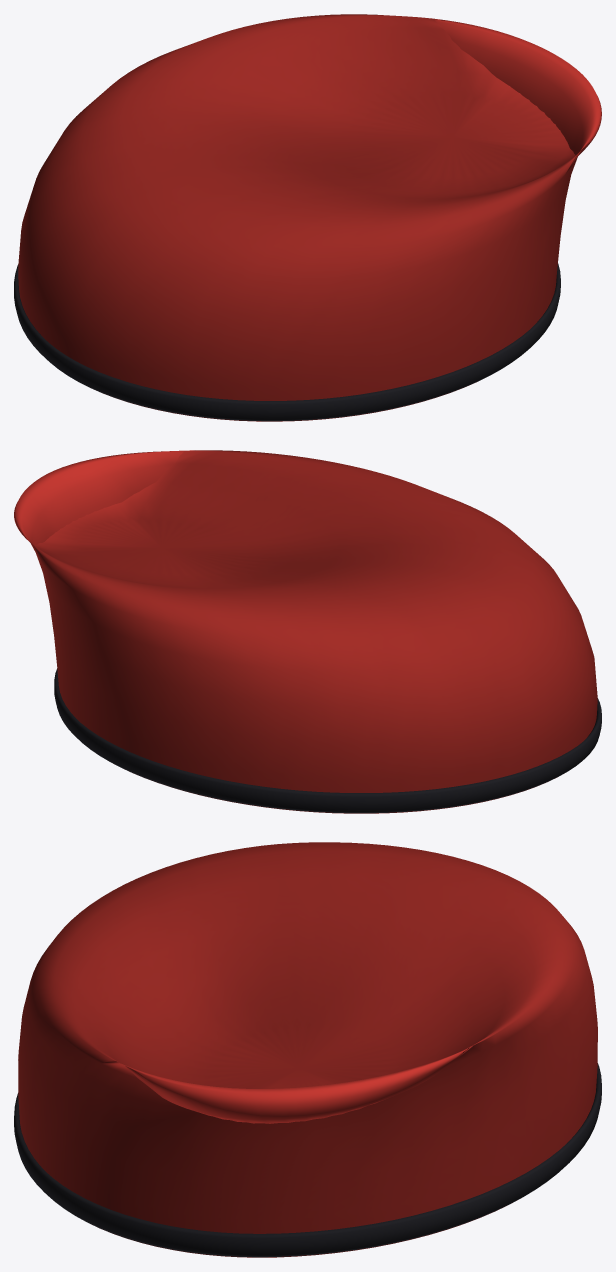
File: hw_fila.glb
3 views of the same model, one above another, from view 1: azimuth 30°, elevation 25°; view 2: azimuth 150°, elevation 25°; view 3: azimuth 270°, elevation 25° (orthographic). The views are drawn at different scales.
Visible parts, largest first — view 1: hw_fila, hw_fila_band; view 2: hw_fila, hw_fila_band; view 3: hw_fila, hw_fila_band.
Boxes of the visible parts, x1,y1,x2,y2 form: hw_fila: (18, 14, 601, 421); hw_fila_band: (14, 263, 560, 421); hw_fila: (14, 450, 597, 813); hw_fila_band: (54, 668, 601, 813); hw_fila: (18, 842, 597, 1257); hw_fila_band: (14, 1063, 601, 1257).
Bounding box in the file's own units: 0.9698 × 0.3344 × 0.7946.
